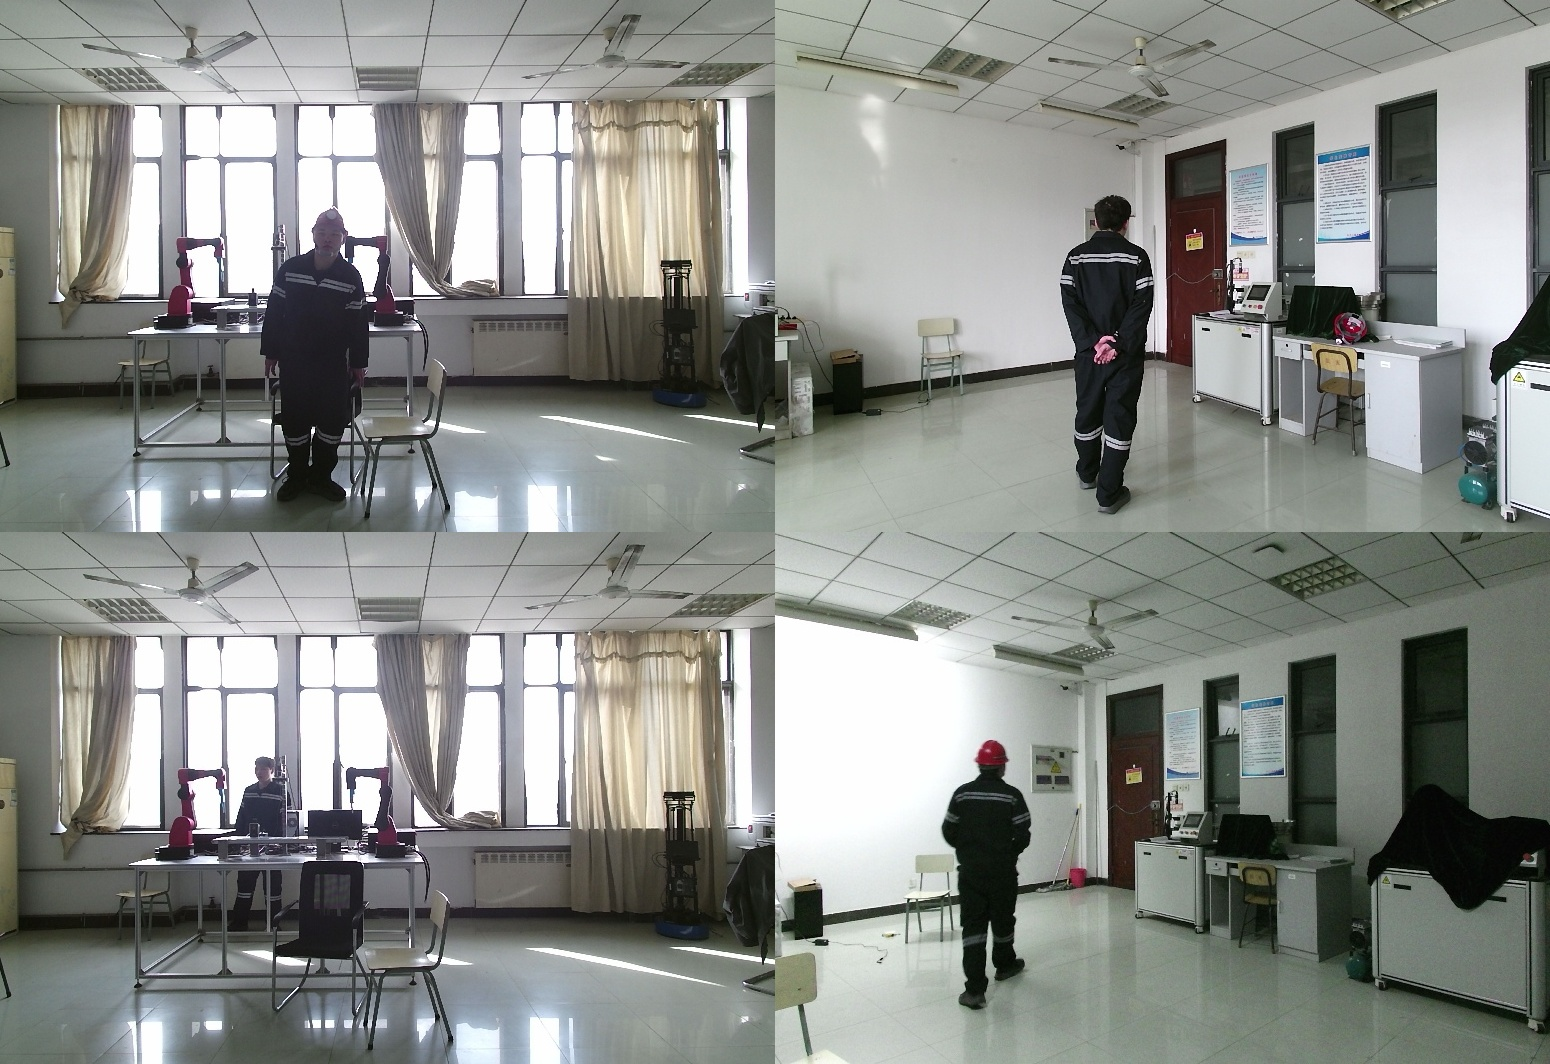person: (1058, 197, 1167, 513), (263, 208, 376, 501), (942, 739, 1047, 1007), (229, 756, 297, 934)
